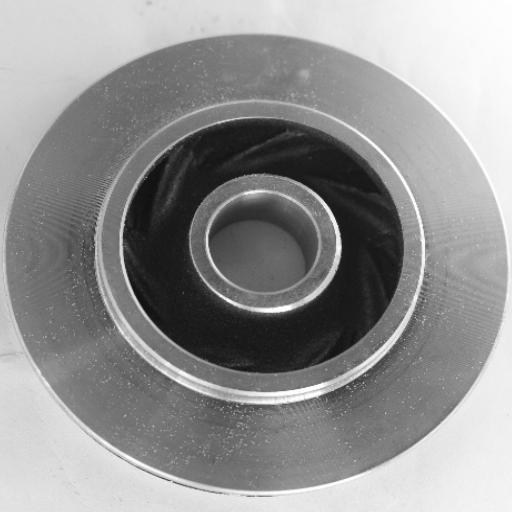polished_casting: (7, 32, 509, 499)
